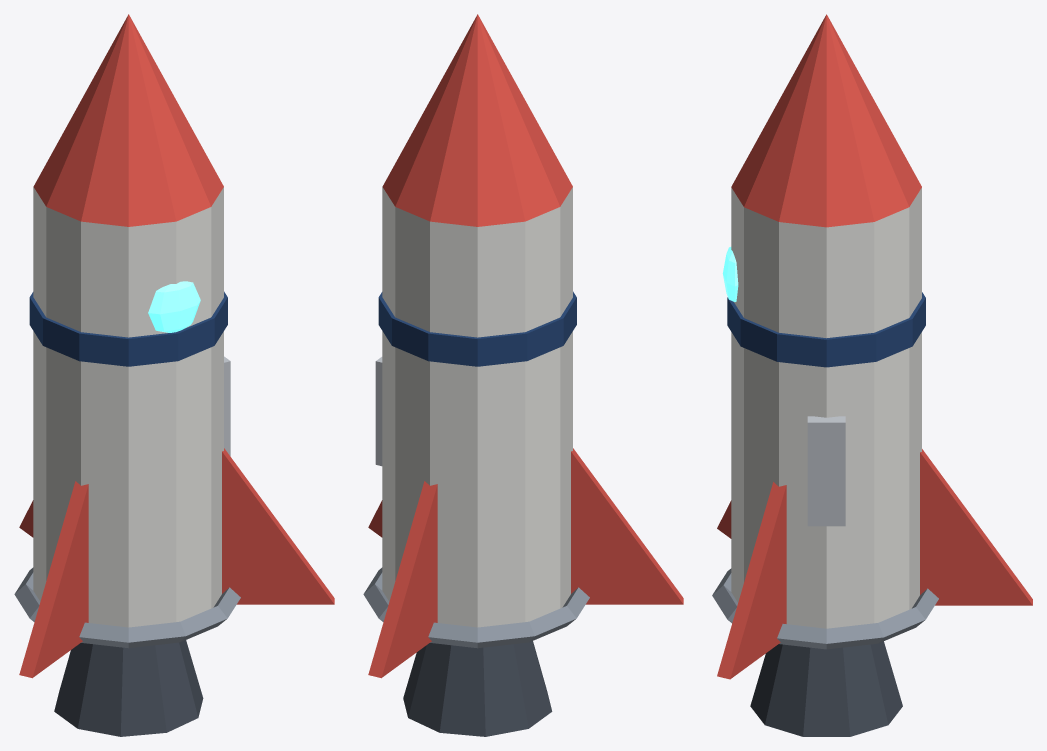
File: _example_asset.glb
3 views of the same model, side by side, from view 1: azimuth 30°, elevation 25°; view 2: azimuth 150°, elevation 25°; view 3: azimuth 270°, elevation 25° (orthographic).
Visible parts, largest first — view 1: _example_asset; view 2: _example_asset; view 3: _example_asset.
Boxes of the visible parts, x1,y1,x2,y2 form: _example_asset: [14, 14, 334, 736]; _example_asset: [363, 14, 683, 736]; _example_asset: [712, 14, 1032, 736].
Bounding box in the file's own units: 0.9553 × 2 × 0.84.
